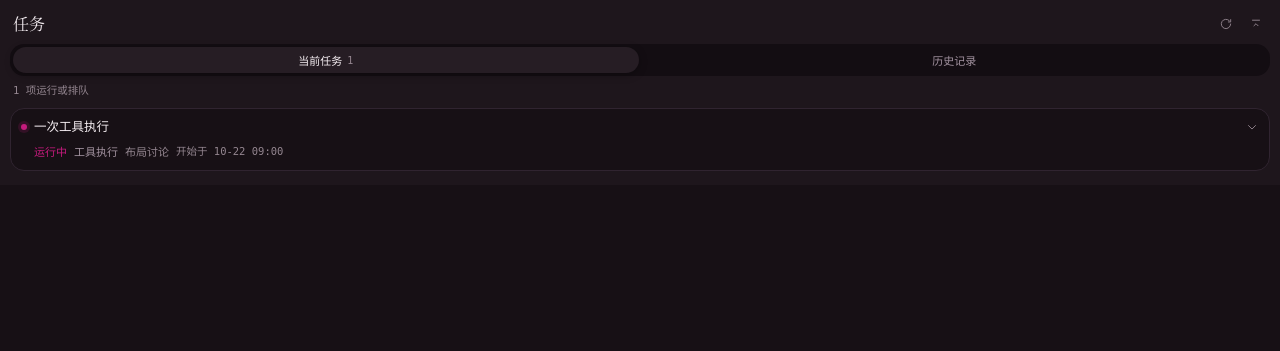
Test: 动作与审批入口 › 只有后端 supported 的动作才渲染按钮
Click the button with class "task-trigger": (72, 126) [34,118,1259,137]
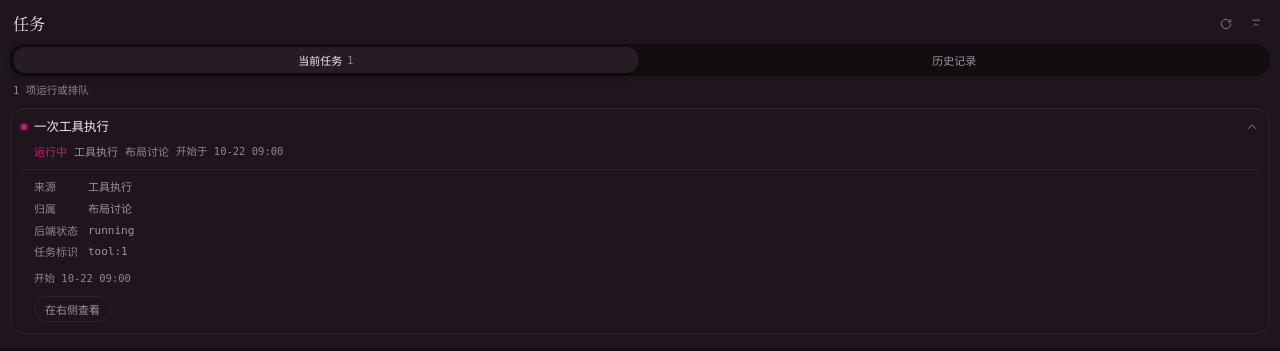
Expected: the button with class "task-action" reads "在右侧查看", [34,296,111,322]
